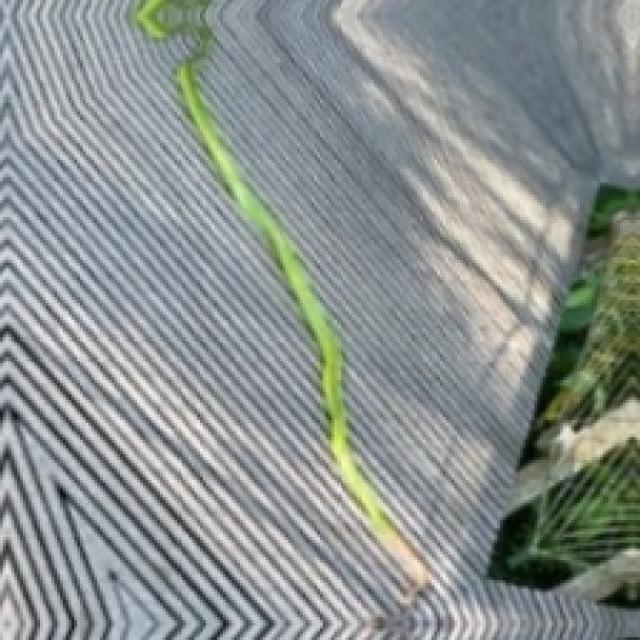red-tailed green ratsnake: (131, 0, 426, 586)
